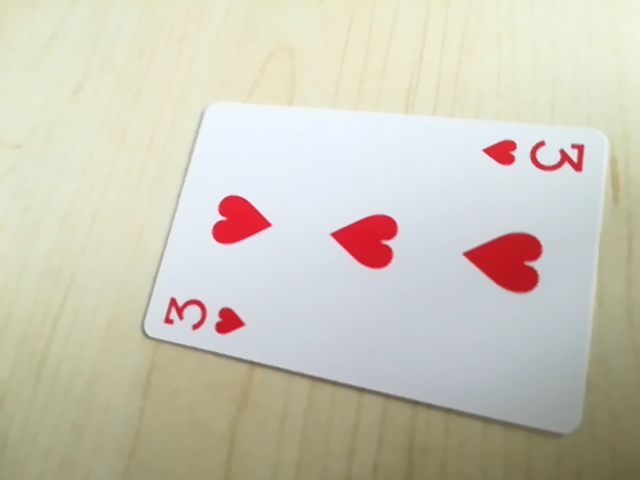hx 3: (478, 130, 589, 180), (158, 289, 255, 342)
